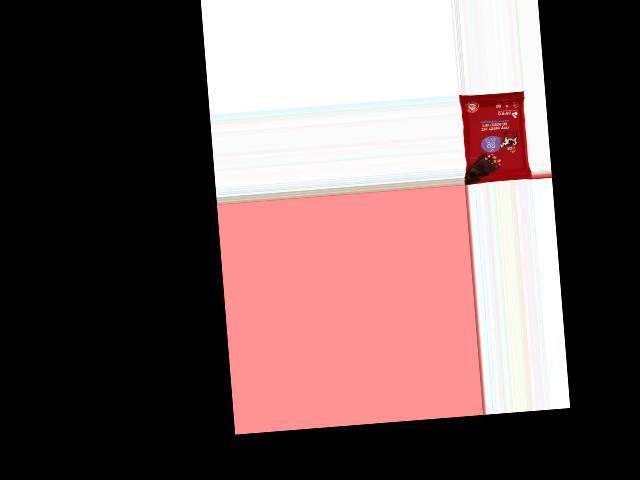chocolate: (460, 89, 531, 183)
